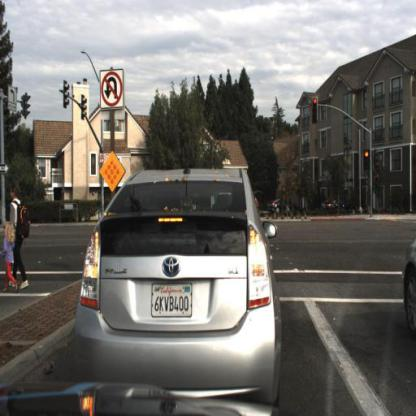car: (73, 159, 282, 403), (400, 229, 416, 338), (319, 194, 354, 219), (268, 192, 295, 219)
pedestrian: (10, 178, 34, 295), (282, 189, 297, 224), (284, 193, 293, 219)
trafficLight-Red: (362, 146, 373, 174), (312, 93, 321, 125)
